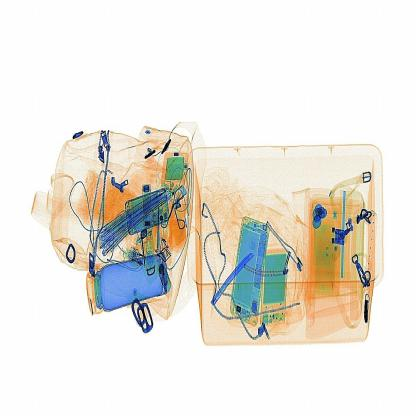pliers: (204, 243, 260, 317)
